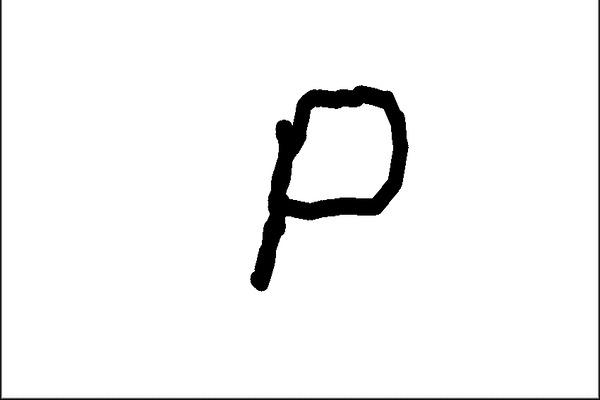P: (237, 70, 420, 303)
